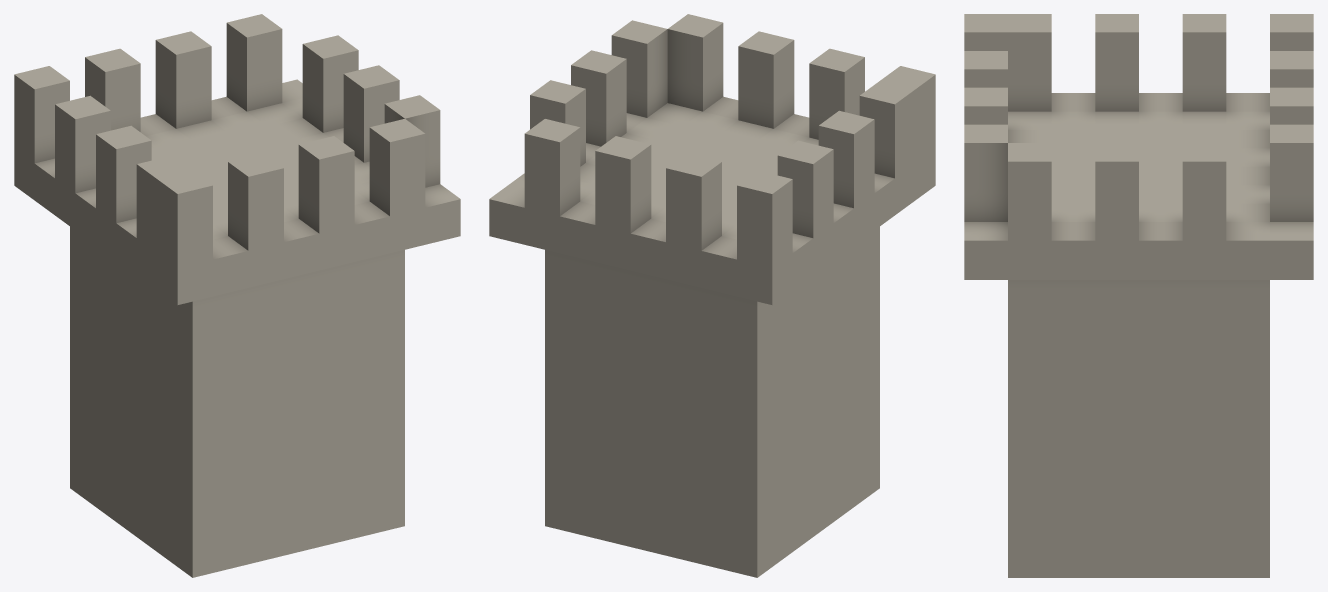
File: c_tower1.glb
The picture shows the model from 3 angles, left to right: view 1: azimuth 30°, elevation 25°; view 2: azimuth 150°, elevation 25°; view 3: azimuth 270°, elevation 25°; orthographic projection. The views are drawn at different scales.
Visible parts, largest first — view 1: c_tower1_body; view 2: c_tower1_body; view 3: c_tower1_body.
Boxes of the visible parts, x1=… form: c_tower1_body: x1=14, y1=14, x2=460, y2=577; c_tower1_body: x1=489, y1=14, x2=935, y2=577; c_tower1_body: x1=964, y1=14, x2=1313, y2=577.
Size of the model in its own units: 0.5 by 0.6875 by 0.5.
Materials: 1 (1 with a texture image).
